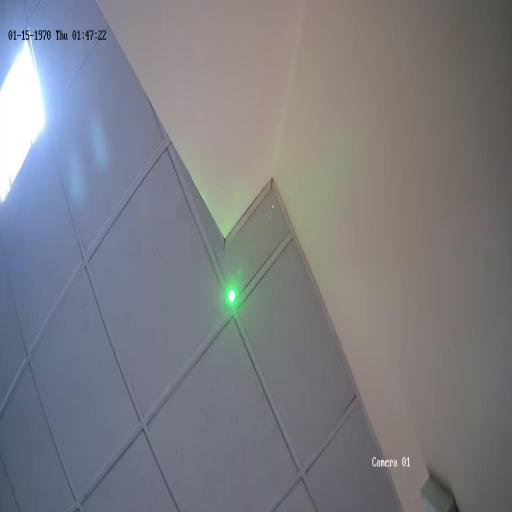laser: (226, 285, 238, 307)
